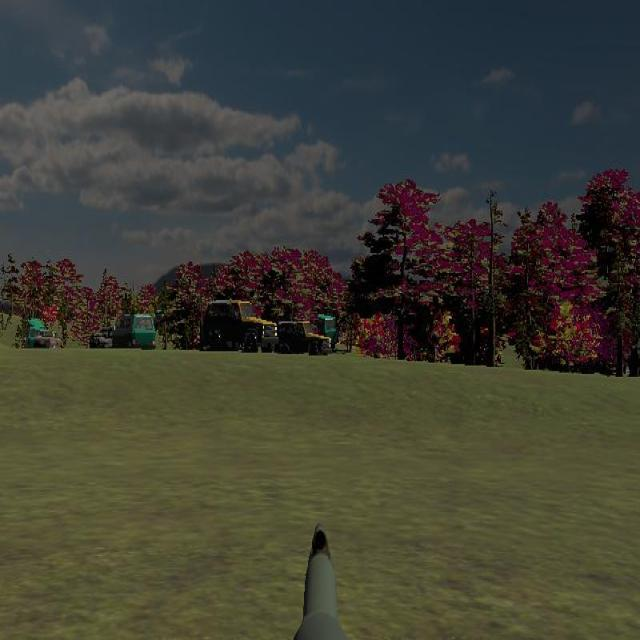car: (201, 299, 276, 351), (274, 320, 329, 355), (112, 313, 155, 352), (26, 327, 61, 352)
